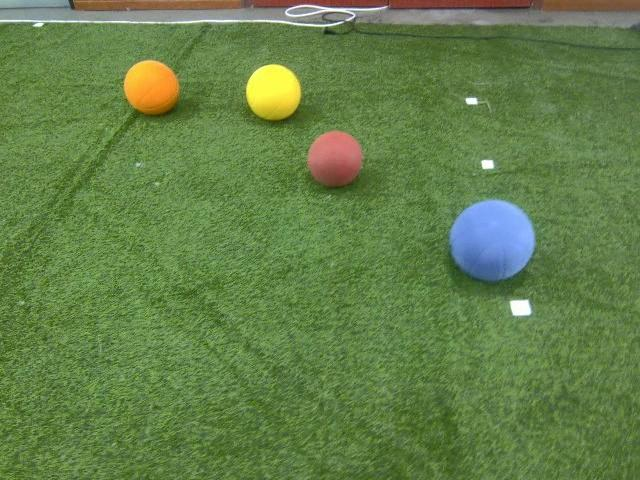blue_ball: (450, 198, 536, 283)
orange_ball: (124, 58, 179, 118)
red_ball: (307, 129, 363, 188)
yellow_ball: (245, 63, 302, 121)
